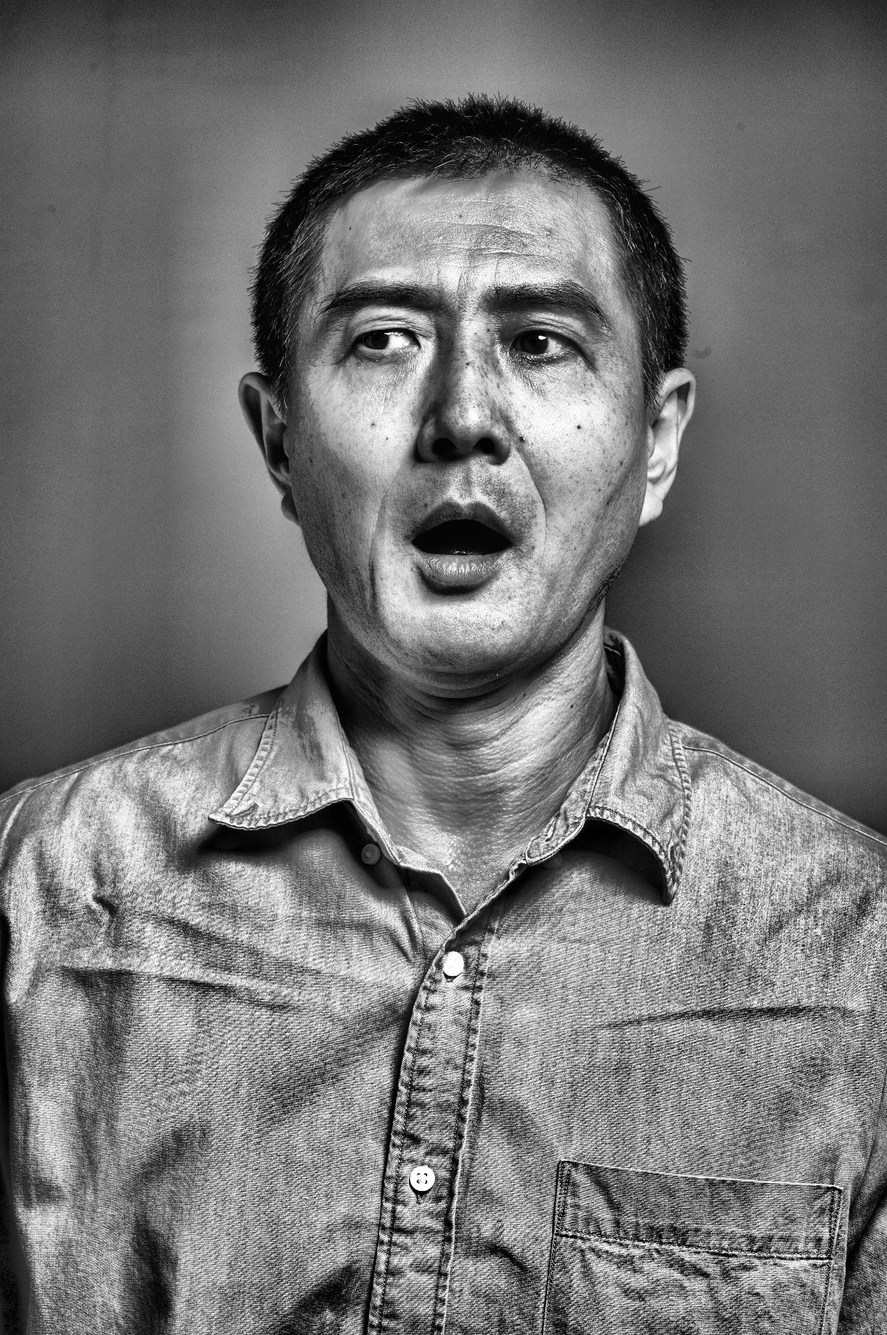surprised: (300, 184, 661, 669)
